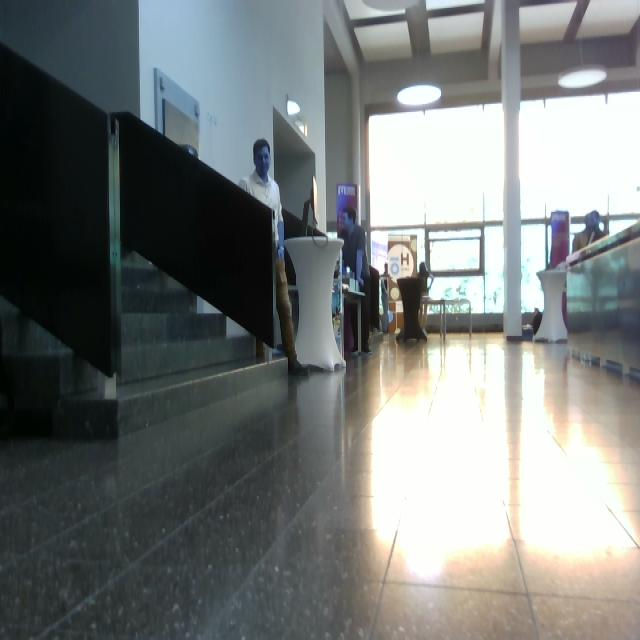door: (110, 110, 271, 384)
light bulb: (558, 41, 607, 89), (558, 65, 607, 89), (397, 84, 442, 106), (362, 1, 419, 13), (181, 144, 198, 158), (287, 100, 301, 116)
person: (238, 138, 309, 377), (342, 206, 373, 356)
pillar: (501, 1, 524, 340)
table: (283, 234, 350, 376)
tiled floor: (2, 328, 639, 638)
window: (367, 88, 639, 330)
